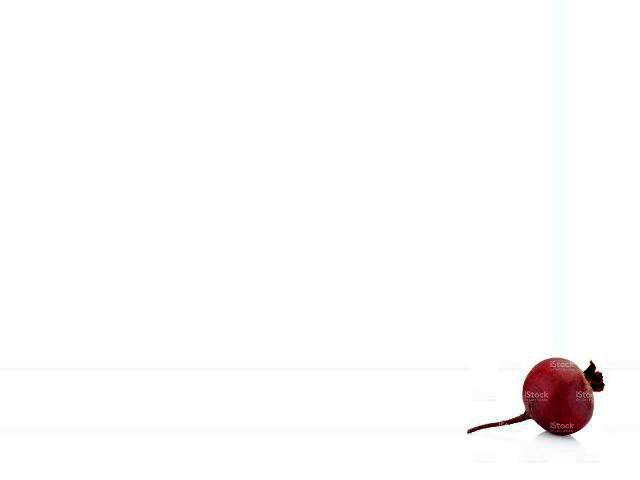beet: (468, 358, 604, 435)
